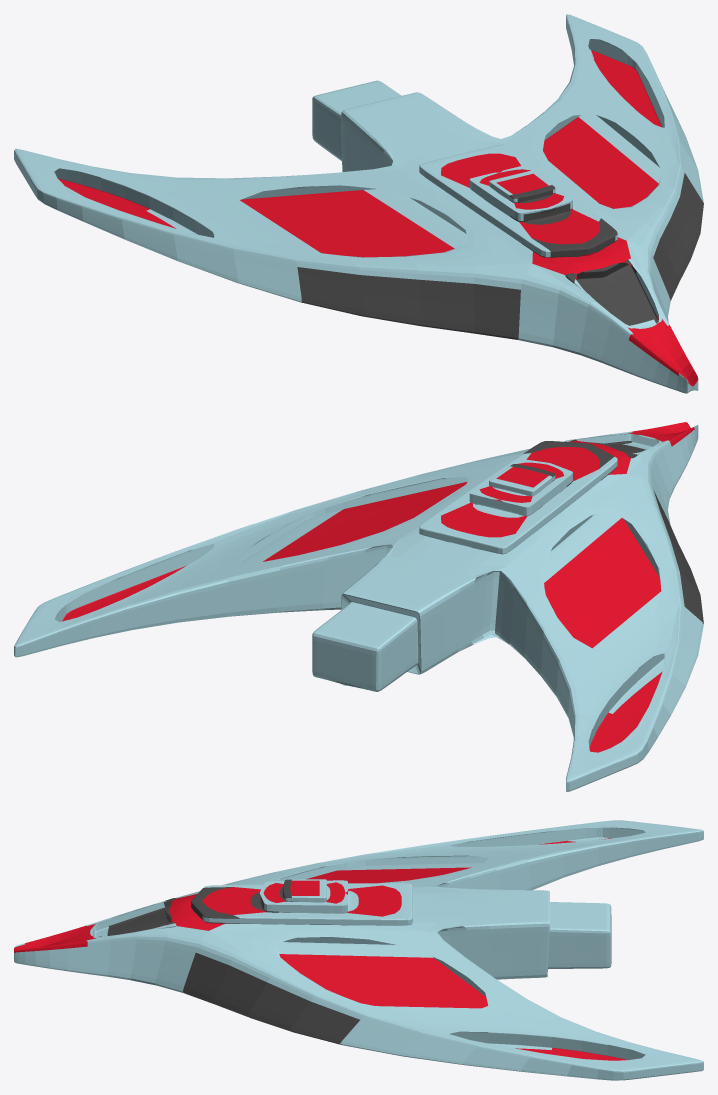
File: space_player1_.glb
The picture shows the model from 3 angles, top to bottom: view 1: azimuth 30°, elevation 25°; view 2: azimuth 150°, elevation 25°; view 3: azimuth 270°, elevation 25°; orthographic projection. The views are drawn at different scales.
Parts seen in each view (by area): view 1: Cube; view 2: Cube; view 3: Cube.
Part boxes in pixels (x1,y1,x2,y2): Cube: [14, 14, 703, 393]; Cube: [14, 422, 703, 791]; Cube: [14, 820, 703, 1080].
Size of the model in its own units: 12.56 by 1.8 by 14.57.
